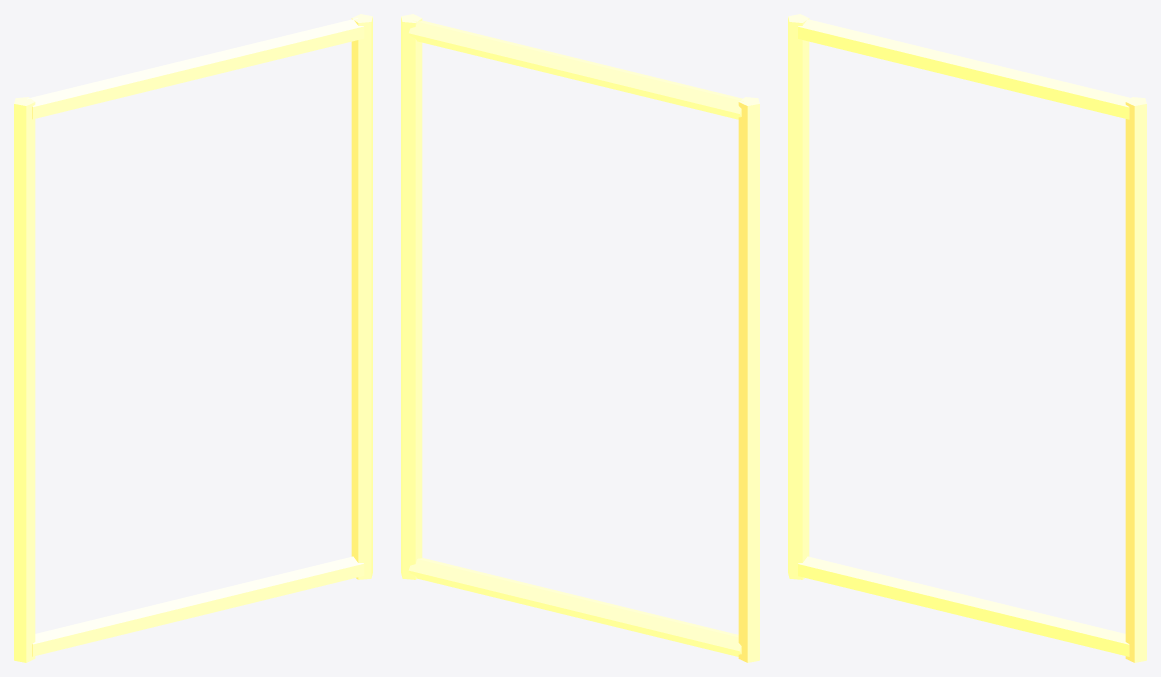
The model's file is neonwall-YELLOW.glb.
3 views of the same model, side by side, from view 1: azimuth 30°, elevation 25°; view 2: azimuth 150°, elevation 25°; view 3: azimuth 330°, elevation 25° (orthographic).
Visible parts, largest first — view 1: nwall; view 2: nwall; view 3: nwall.
Boxes of the visible parts, bbox=[...] form: nwall: bbox=[14, 14, 372, 662]; nwall: bbox=[401, 14, 759, 662]; nwall: bbox=[788, 14, 1146, 662].
Size of what is drawn, in the model's own units: 2.01 by 2.98 by 0.1079.
